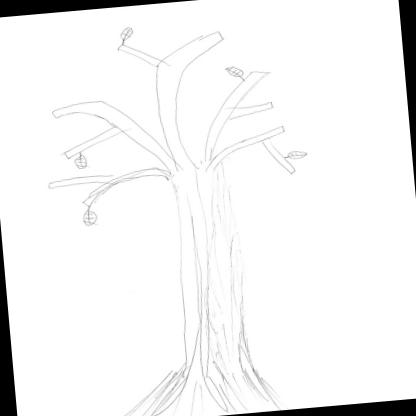branch_cut: (36, 18, 310, 211)
trunk_bark: (168, 205, 258, 345)
